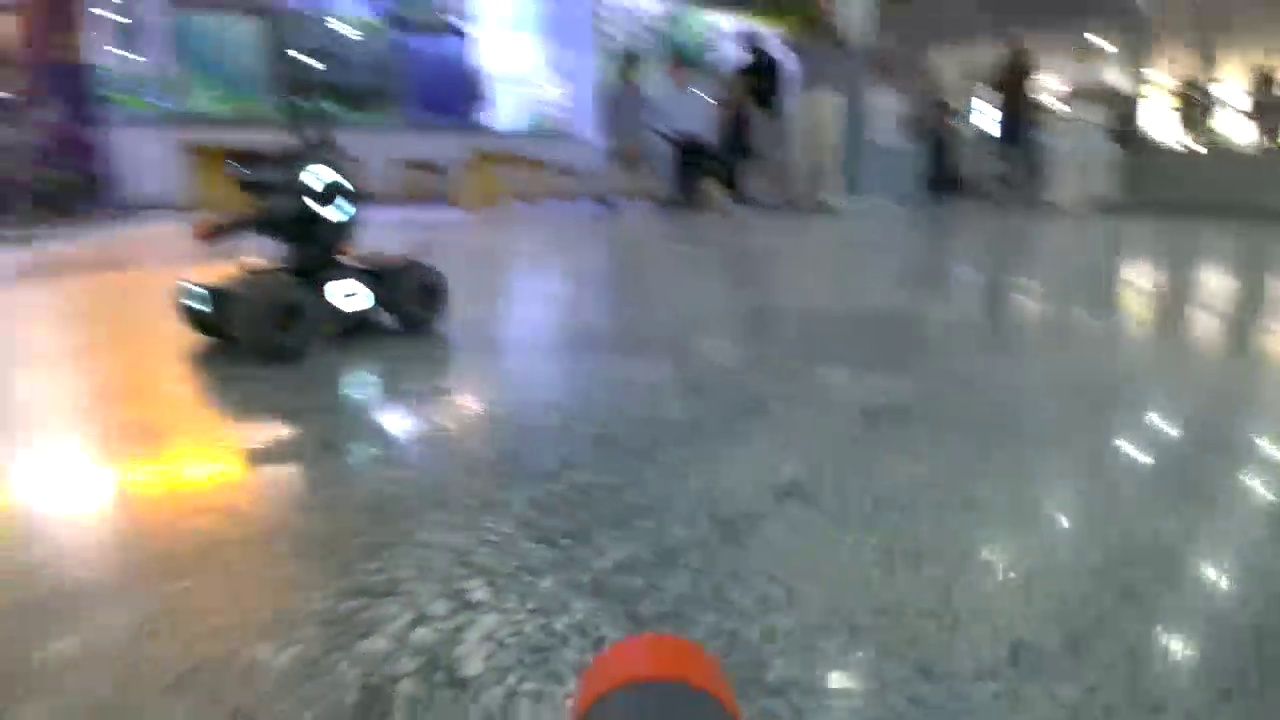robot: (177, 156, 462, 363)
